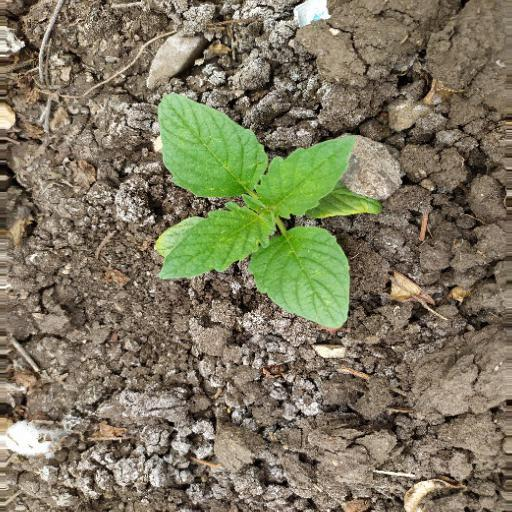crop: (137, 83, 387, 363)
